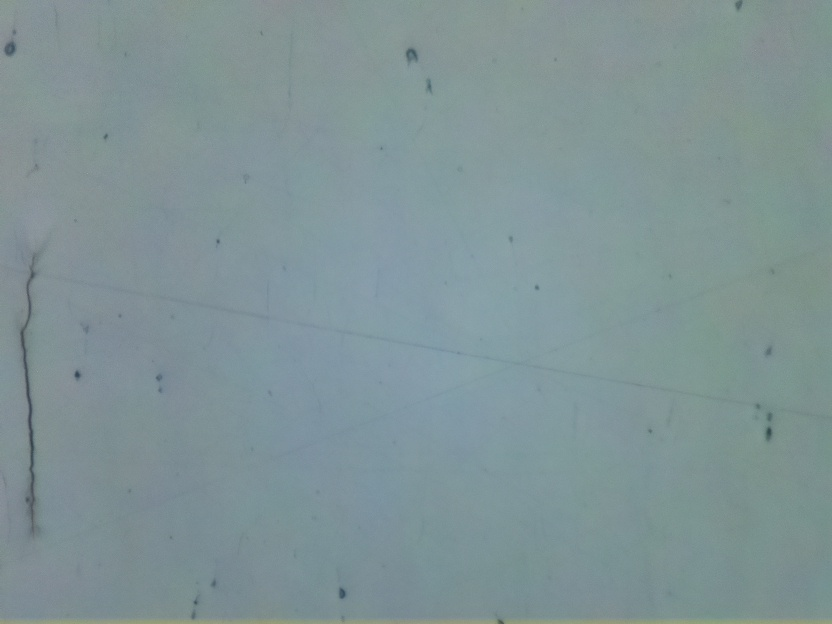crack: (21, 243, 52, 545)
